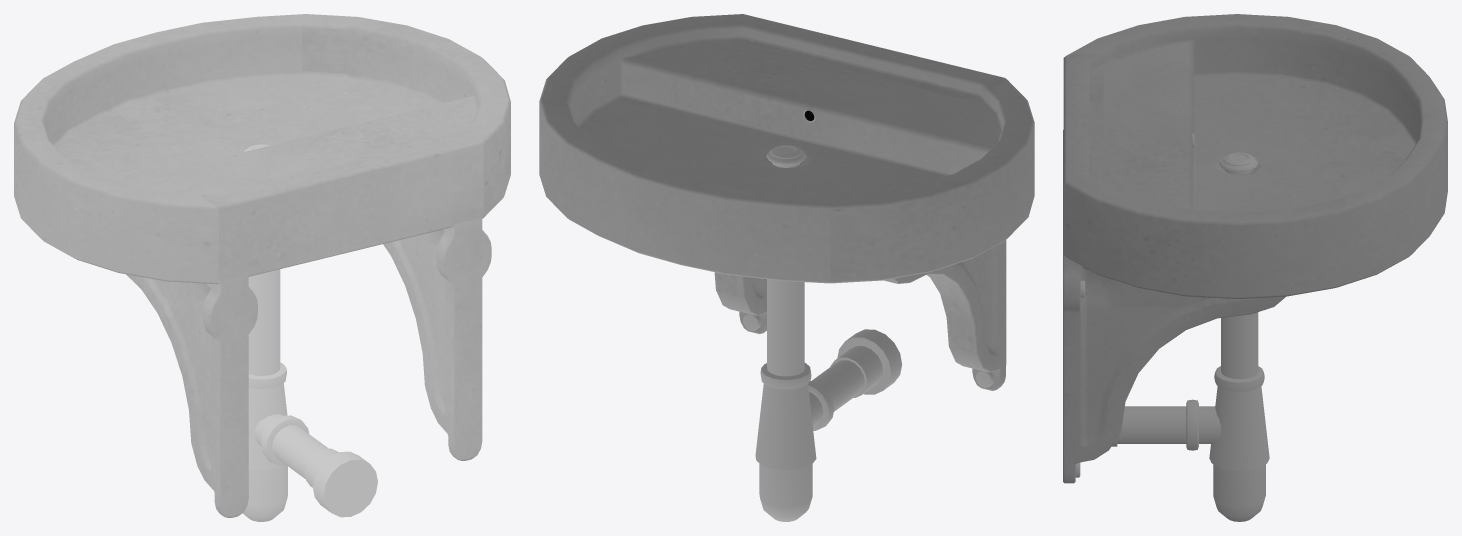
The model's file is Sink_eb3f38fd.obj.
3 views of the same model, side by side, from view 1: azimuth 30°, elevation 25°; view 2: azimuth 150°, elevation 25°; view 3: azimuth 270°, elevation 25° (orthographic). The views are drawn at different scales.
Parts seen in each view (by area): view 1: sink_27_0a55fff9; view 2: sink_27_0a55fff9; view 3: sink_27_0a55fff9.
Part boxes in pixels (left/top/right/bottom): sink_27_0a55fff9: left=14, top=14, right=510, bottom=521; sink_27_0a55fff9: left=539, top=14, right=1034, bottom=521; sink_27_0a55fff9: left=1063, top=14, right=1447, bottom=521.
Size of the model in its own units: 0.7303 by 0.6478 by 0.5628.
